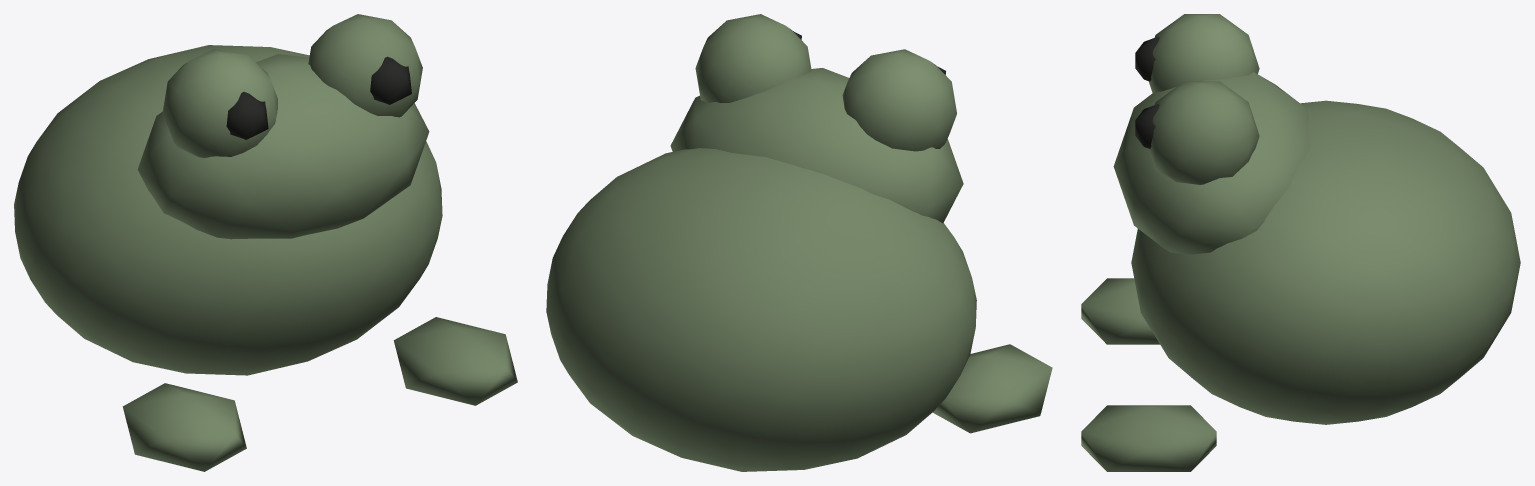
The model's file is furn_dp_frog.glb.
3 renders of one model, left to right at view 1: azimuth 30°, elevation 25°; view 2: azimuth 150°, elevation 25°; view 3: azimuth 270°, elevation 25°, orthographic. The views are drawn at different scales.
Parts seen in each view (by area): view 1: furn_dp_frog_main; view 2: furn_dp_frog_main; view 3: furn_dp_frog_main.
Part boxes in pixels (x1,y1,x2,y2): furn_dp_frog_main: [14, 14, 517, 471]; furn_dp_frog_main: [546, 14, 1052, 471]; furn_dp_frog_main: [1081, 14, 1520, 471].
Size of the model in its own units: 0.48 by 0.445 by 0.4966.
